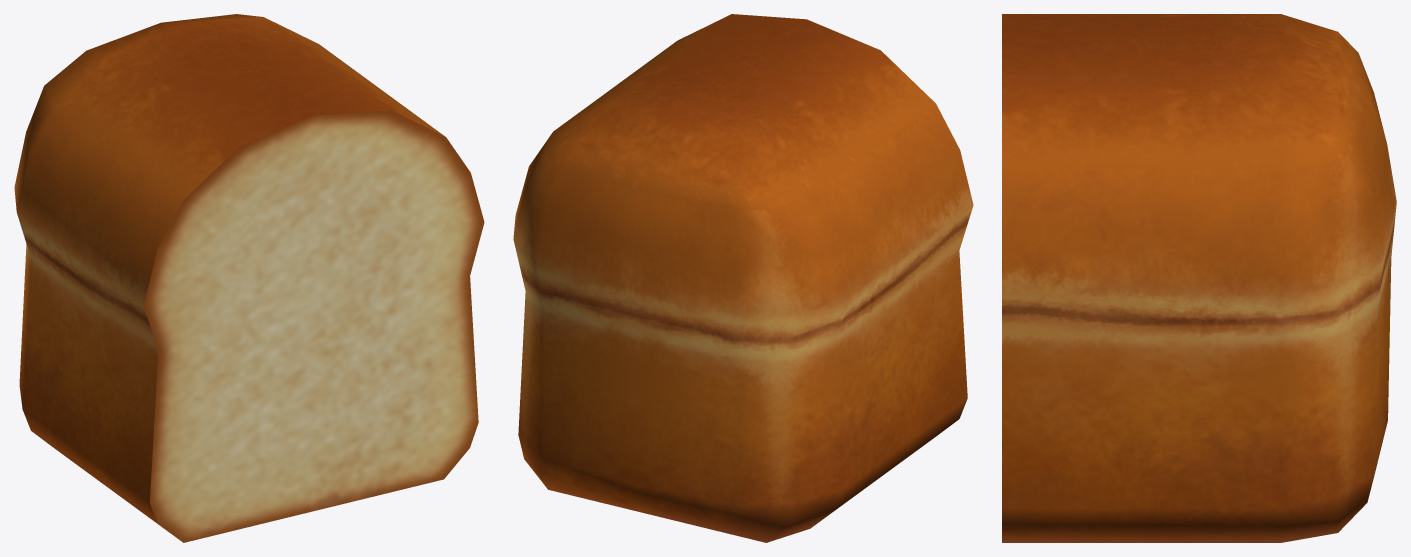
Rendered from Loaf_Half.fbx.
The picture shows the model from 3 angles, left to right: view 1: azimuth 30°, elevation 25°; view 2: azimuth 150°, elevation 25°; view 3: azimuth 270°, elevation 25°; orthographic projection. The views are drawn at different scales.
Parts seen in each view (by area): view 1: Loaf_Half; view 2: Loaf_Half; view 3: Loaf_Half.
Boxes of the visible parts, left/top/right/bottom form: Loaf_Half: left=14, top=14, right=484, bottom=542; Loaf_Half: left=513, top=14, right=973, bottom=542; Loaf_Half: left=1002, top=14, right=1396, bottom=542.
Size of the model in its own units: 39.11 by 43.39 by 35.8.
